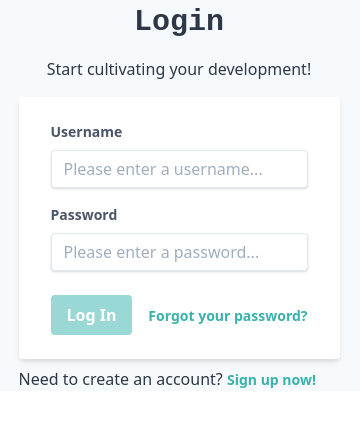
Test: <LoginPage /> › should show login error after failing to log in
Type "matchingusername" into the field with test id "usernameInput" at (179, 169), box [50,150,308,188]
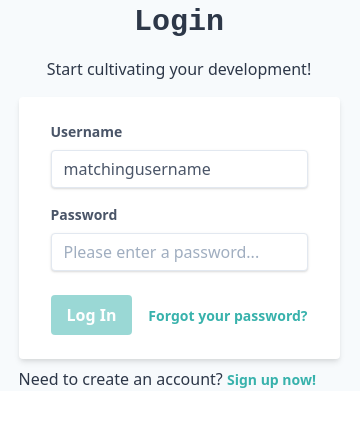
Type "matchingpassword" into the password field with test id "passwordInput" at (179, 252), box [50,233,308,271]
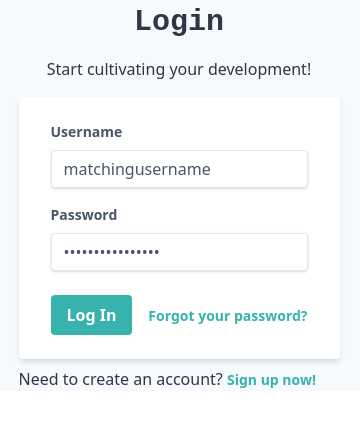
Click the button with test id "loginButton" at (92, 315), box [50,295,132,335]
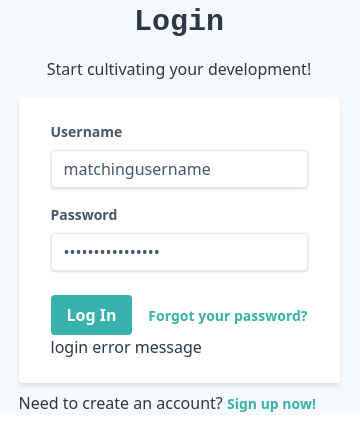
Expected: the text with test id "loginError" reads "login error message", [50,336,202,358]
